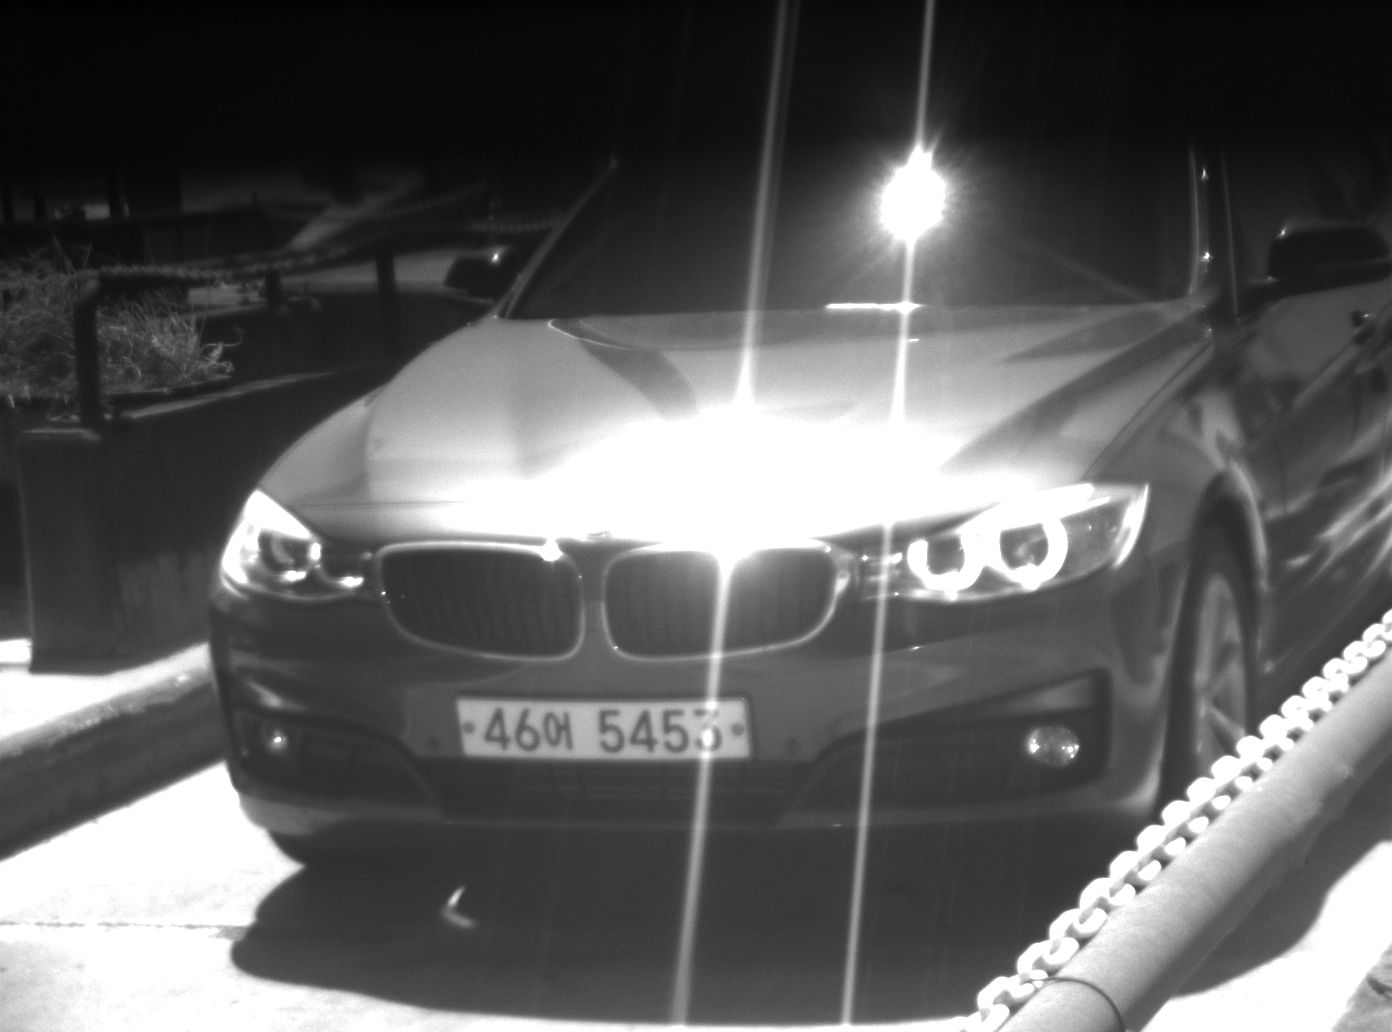car: (207, 126, 1392, 878)
plate: (450, 693, 755, 762)
